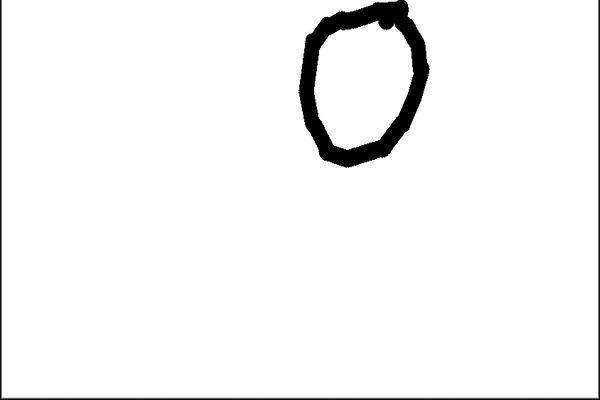O: (293, 0, 437, 170)
